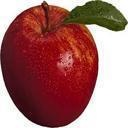apple: (1, 2, 100, 128)
